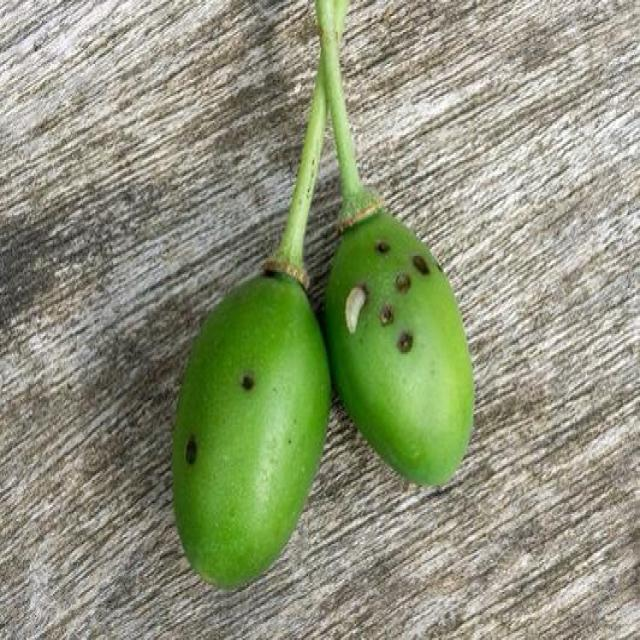Olive Fruit Fly: (173, 270, 331, 588), (325, 212, 472, 485)
